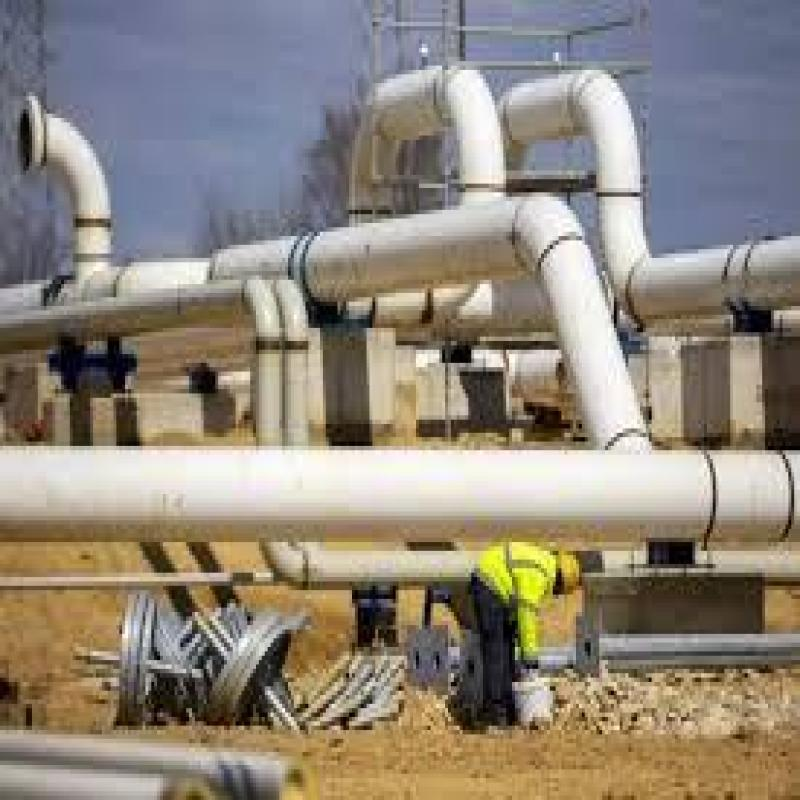Healthy: (0, 427, 769, 557)
